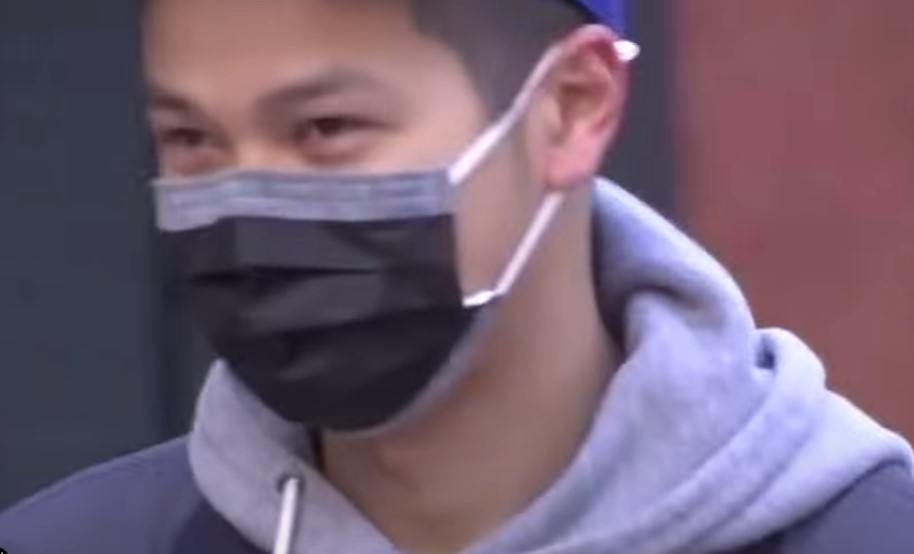face_with_mask: (133, 2, 628, 427)
